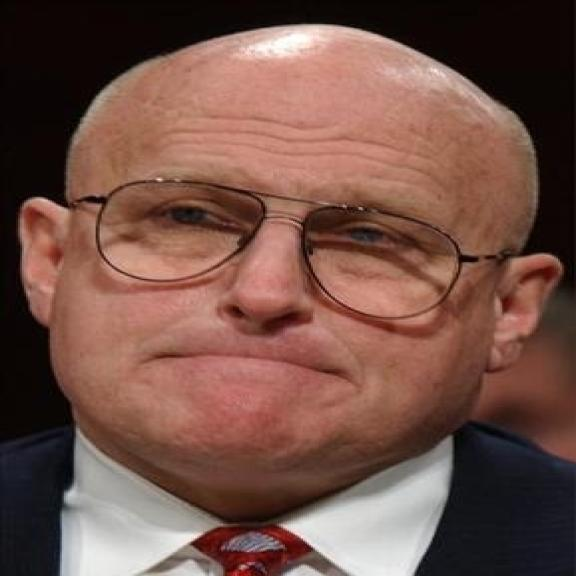face: (17, 36, 562, 492)
